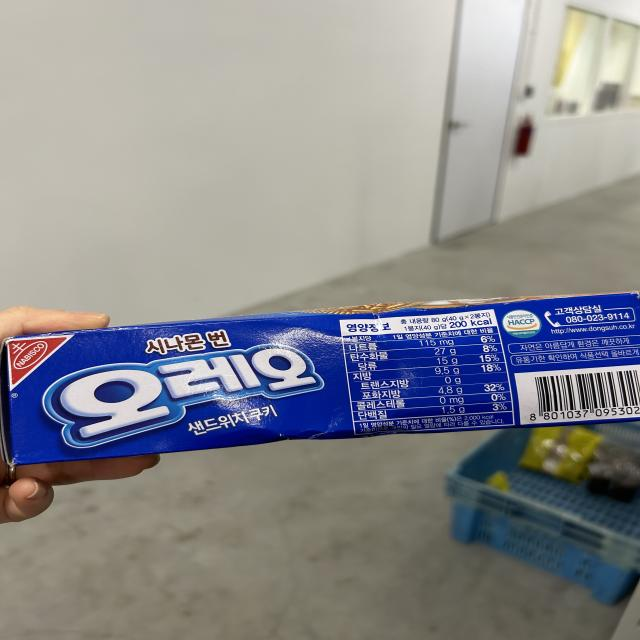object_name: (8, 328, 640, 435)
